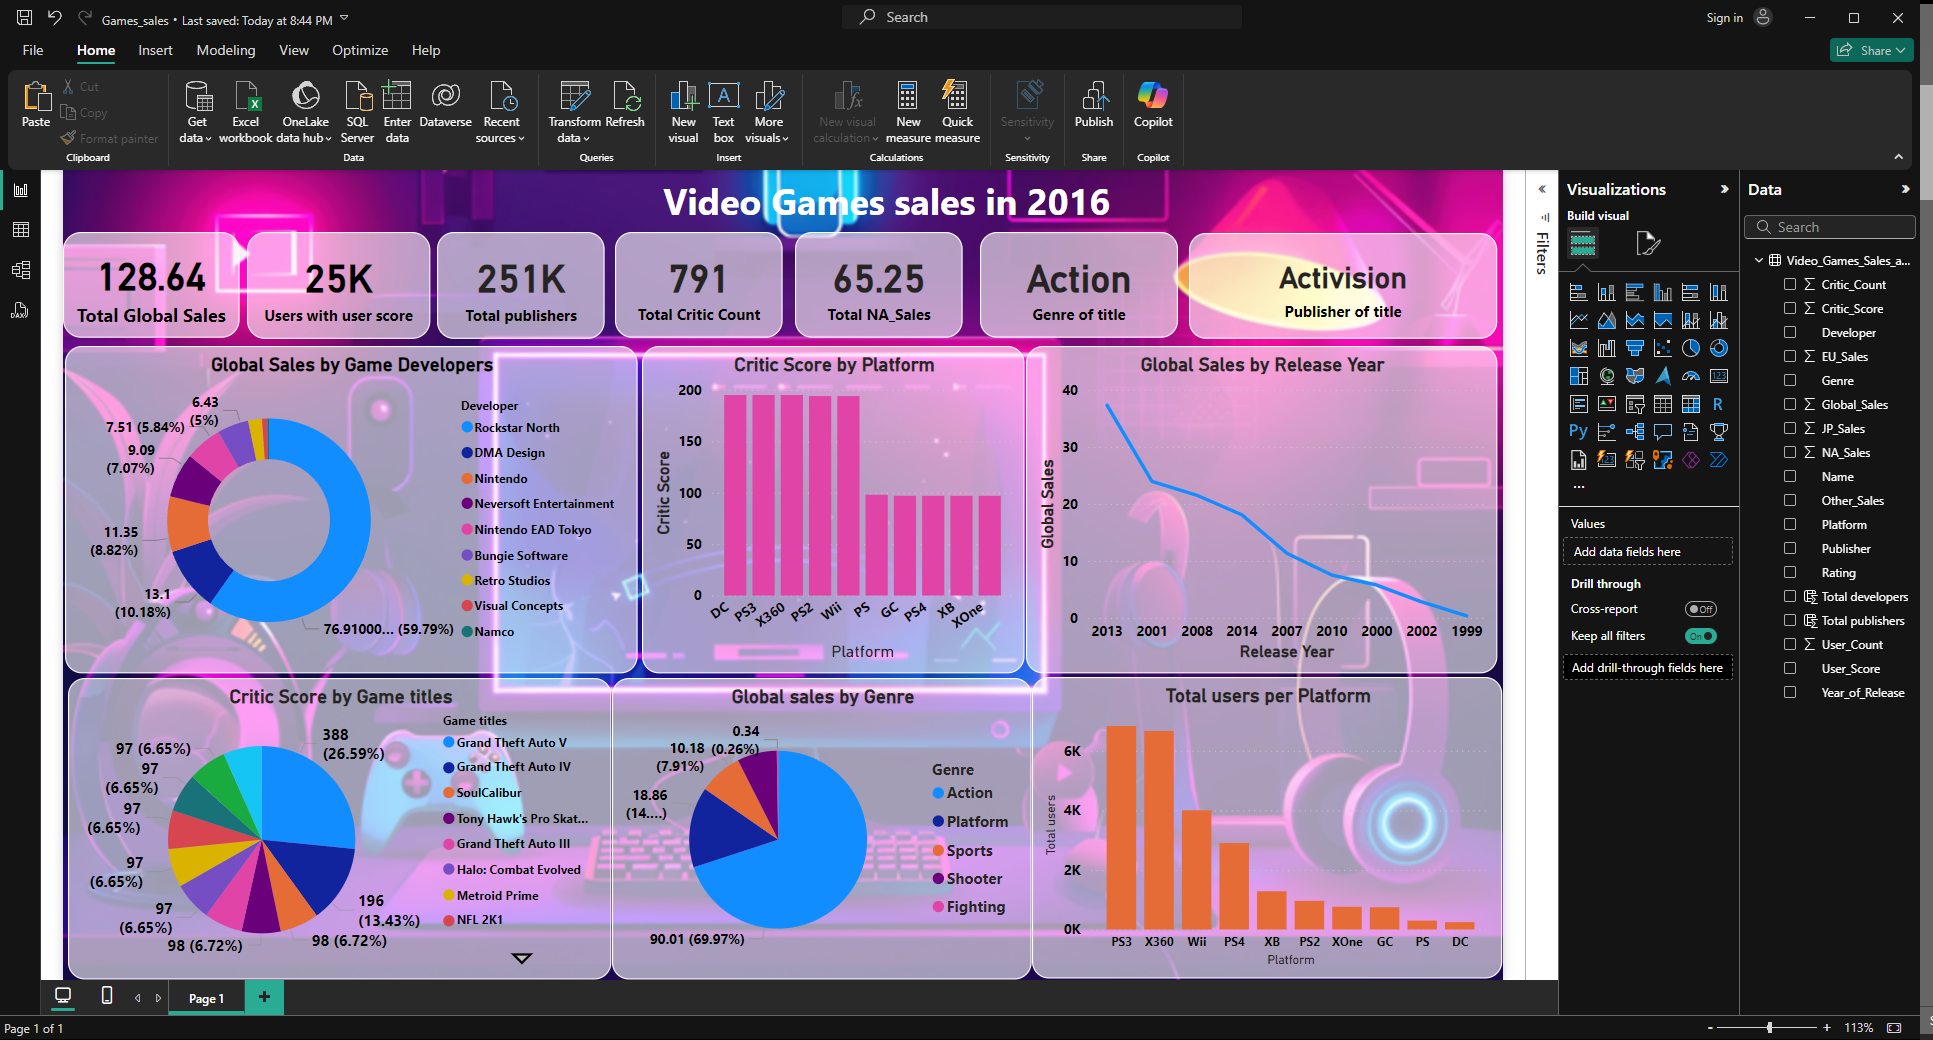

The page's visual inventory and layout, read from the dashboard file:
{"tool":"powerbi","page":{"name":"Page 1","canvas":[1280,720],"ordinal":0},"visuals":[{"type":"pieChart","title":"Critic Score by Game titles","fields":{"Category":["Video_Games_Sales_as_at_22_Dec_2016.Name"],"Y":["Sum(Video_Games_Sales_as_at_22_Dec_2016.Critic_Score)"]},"box":[4.9,451.3,483.4,268.4],"z":0},{"type":"card","fields":{"Values":["Sum(Video_Games_Sales_as_at_22_Dec_2016.Global_Sales)"]},"box":[0,55.4,156.6,94.3],"z":1000},{"type":"textbox","box":[488.3,0,488.3,59.3],"z":2000},{"type":"card","fields":{"Values":["Sum(Video_Games_Sales_as_at_22_Dec_2016.User_Count)"]},"box":[163.6,55.1,162.7,95.1],"z":3000},{"type":"pieChart","title":"Global sales by Genre","fields":{"Category":["Video_Games_Sales_as_at_22_Dec_2016.Genre"],"Y":["Sum(Video_Games_Sales_as_at_22_Dec_2016.Global_Sales)"]},"box":[488.3,451.3,373.5,268.4],"z":4000},{"type":"columnChart","title":"Total users per Platform","fields":{"Category":["Video_Games_Sales_as_at_22_Dec_2016.Platform"],"Y":["Sum(Video_Games_Sales_as_at_22_Dec_2016.User_Count)"]},"box":[861.8,450.3,418.2,268.4],"z":5000},{"type":"donutChart","title":"Global Sales by Game Developers","fields":{"Category":["Video_Games_Sales_as_at_22_Dec_2016.Developer"],"Y":["Sum(Video_Games_Sales_as_at_22_Dec_2016.Global_Sales)"]},"box":[1.9,156.6,508.7,290.8],"z":6000},{"type":"clusteredColumnChart","title":"Critic Score by Platform","fields":{"Category":["Video_Games_Sales_as_at_22_Dec_2016.Platform"],"Y":["Sum(Video_Games_Sales_as_at_22_Dec_2016.Critic_Score)"]},"box":[514.5,156.6,340.4,290.8],"z":7000},{"type":"card","fields":{"Values":["Sum(Video_Games_Sales_as_at_22_Dec_2016.Total publishers)"]},"box":[332.4,55.1,149.3,95.1],"z":8000},{"type":"lineChart","fields":{"Y":["Sum(Video_Games_Sales_as_at_22_Dec_2016.Global_Sales)"],"Category":["Video_Games_Sales_as_at_22_Dec_2016.Year_of_Release"]},"box":[856,156.4,418.7,290.7],"z":9000},{"type":"card","fields":{"Values":["Sum(Video_Games_Sales_as_at_22_Dec_2016.Critic_Count)"]},"box":[490.7,55.1,149.3,94.2],"z":10000},{"type":"card","fields":{"Values":["Sum(Video_Games_Sales_as_at_22_Dec_2016.NA_Sales)"]},"box":[650.7,55.1,149.3,94.2],"z":11000},{"type":"card","fields":{"Values":["Min(Video_Games_Sales_as_at_22_Dec_2016.Genre)"]},"box":[815.1,55.1,176,94.2],"z":12000},{"type":"card","fields":{"Values":["Min(Video_Games_Sales_as_at_22_Dec_2016.Publisher)"]},"box":[1000.9,56,273.8,94.2],"z":13000}]}

Visuals, with their boxes on the page's 1280x720 design canvas (x1, y1, x2, y2). These are canvas units, not pixel positions in the 1933x1040 screenshot, which may show the page scaled, cropped or inside an application window:
"Critic Score by Game titles" pieChart: [left=5, top=451, right=488, bottom=720]
card - Sum(Video_Games_Sales_as_at_22_Dec_2016.Global_Sales): [left=0, top=55, right=157, bottom=150]
textbox: [left=488, top=0, right=977, bottom=59]
card - Sum(Video_Games_Sales_as_at_22_Dec_2016.User_Count): [left=164, top=55, right=326, bottom=150]
"Global sales by Genre" pieChart: [left=488, top=451, right=862, bottom=720]
"Total users per Platform" columnChart: [left=862, top=450, right=1280, bottom=719]
"Global Sales by Game Developers" donutChart: [left=2, top=157, right=511, bottom=447]
"Critic Score by Platform" clusteredColumnChart: [left=514, top=157, right=855, bottom=447]
card - Sum(Video_Games_Sales_as_at_22_Dec_2016.Total publishers): [left=332, top=55, right=482, bottom=150]
lineChart - Sum(Video_Games_Sales_as_at_22_Dec_2016.Global_Sales) x Video_Games_Sales_as_at_22_Dec_2016.Year_of_Release: [left=856, top=156, right=1275, bottom=447]
card - Sum(Video_Games_Sales_as_at_22_Dec_2016.Critic_Count): [left=491, top=55, right=640, bottom=149]
card - Sum(Video_Games_Sales_as_at_22_Dec_2016.NA_Sales): [left=651, top=55, right=800, bottom=149]
card - Min(Video_Games_Sales_as_at_22_Dec_2016.Genre): [left=815, top=55, right=991, bottom=149]
card - Min(Video_Games_Sales_as_at_22_Dec_2016.Publisher): [left=1001, top=56, right=1275, bottom=150]
